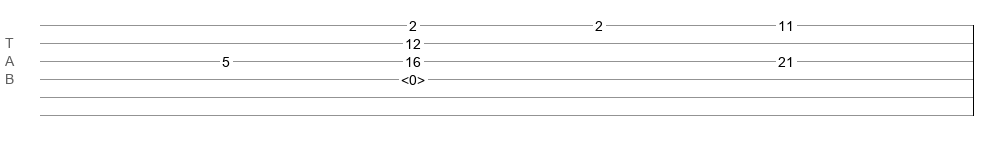11: (778, 18, 794, 28)
12: (405, 36, 421, 46)
16: (405, 54, 421, 64)
2: (409, 18, 417, 28), (595, 18, 603, 28)
21: (778, 54, 794, 64)
5: (222, 54, 230, 64)
harmonic: (401, 72, 425, 82)
